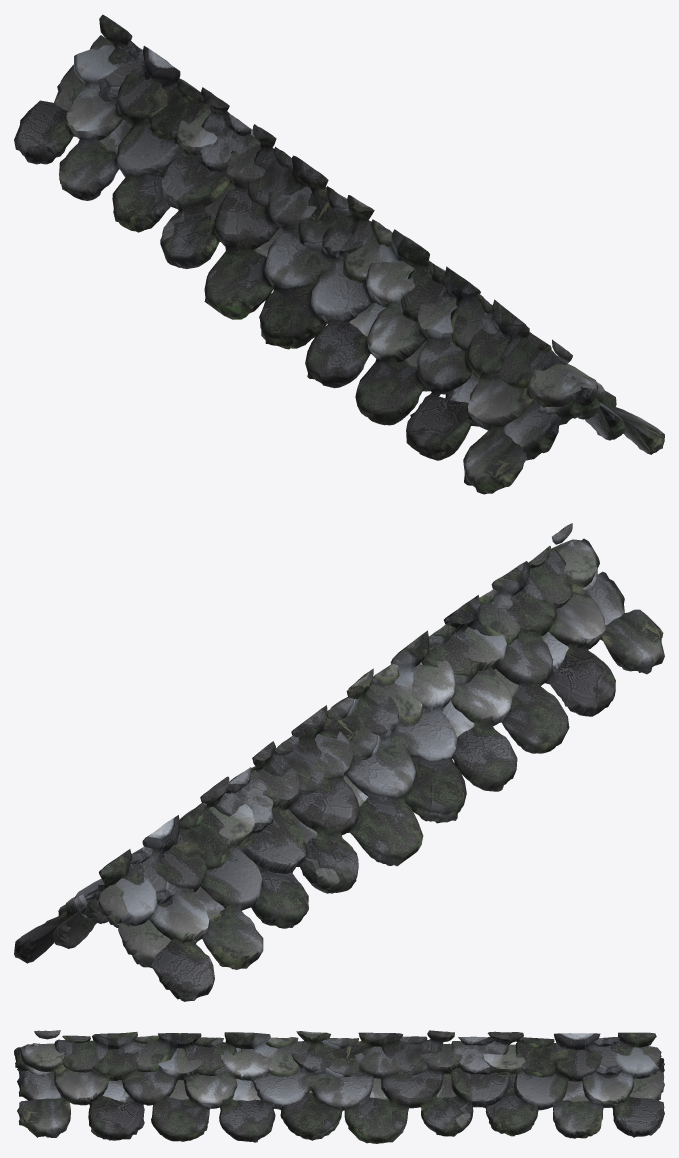
File: SM_Roof_Cap_01.fbx
3 views of the same model, one above another, from view 1: azimuth 30°, elevation 25°; view 2: azimuth 150°, elevation 25°; view 3: azimuth 270°, elevation 25° (orthographic). The views are drawn at different scales.
Visible parts, largest first — view 1: SM_Roof_Cap_01_LOD0; view 2: SM_Roof_Cap_01_LOD0; view 3: SM_Roof_Cap_01_LOD0.
Boxes of the visible parts, left/top/right/bottom form: SM_Roof_Cap_01_LOD0: left=14, top=14, right=664, bottom=494; SM_Roof_Cap_01_LOD0: left=14, top=523, right=664, bottom=1001; SM_Roof_Cap_01_LOD0: left=14, top=1030, right=664, bottom=1143.
Bounding box in the file's own units: 94.64 × 394 × 57.25.
